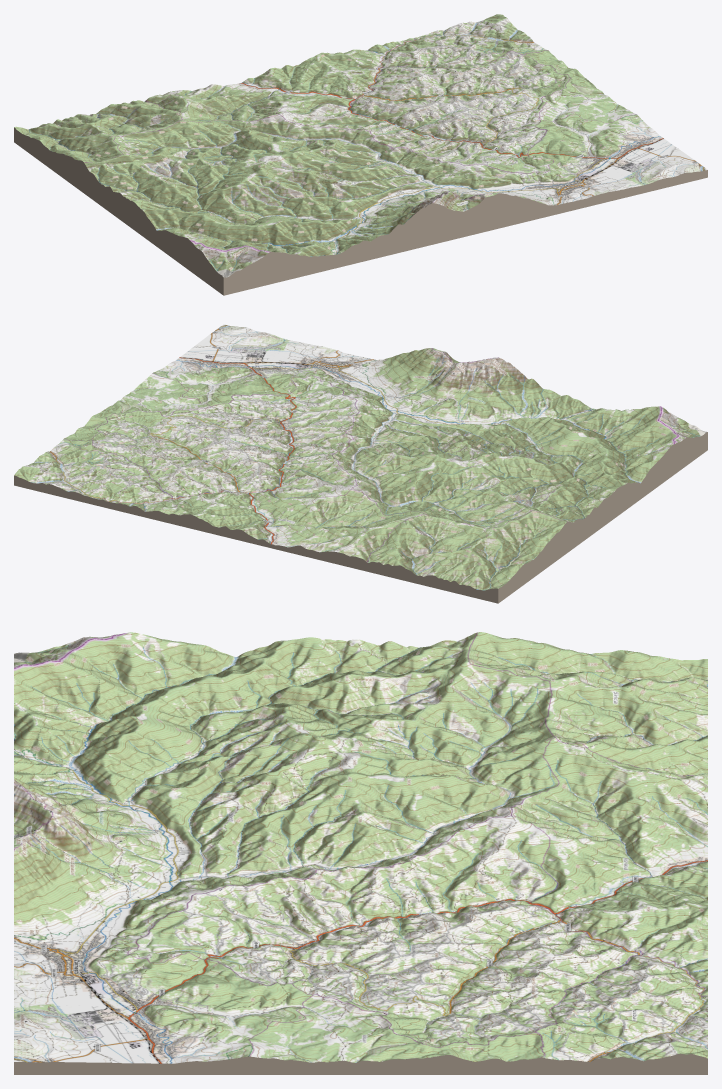
3 renders of one model, top to bottom at view 1: azimuth 30°, elevation 25°; view 2: azimuth 150°, elevation 25°; view 3: azimuth 270°, elevation 25°, orthographic. The views are drawn at different scales.
Visible parts, largest first — view 1: BV50-E3 Zărnești; view 2: BV50-E3 Zărnești; view 3: BV50-E3 Zărnești.
Part boxes in pixels (x1,y1,x2,y2): BV50-E3 Zărnești: [14, 14, 707, 295]; BV50-E3 Zărnești: [14, 324, 707, 603]; BV50-E3 Zărnești: [14, 632, 707, 1074].
Bounding box in the file's own units: 20000 × 1652 × 15000.
4 materials, 1 textured.
